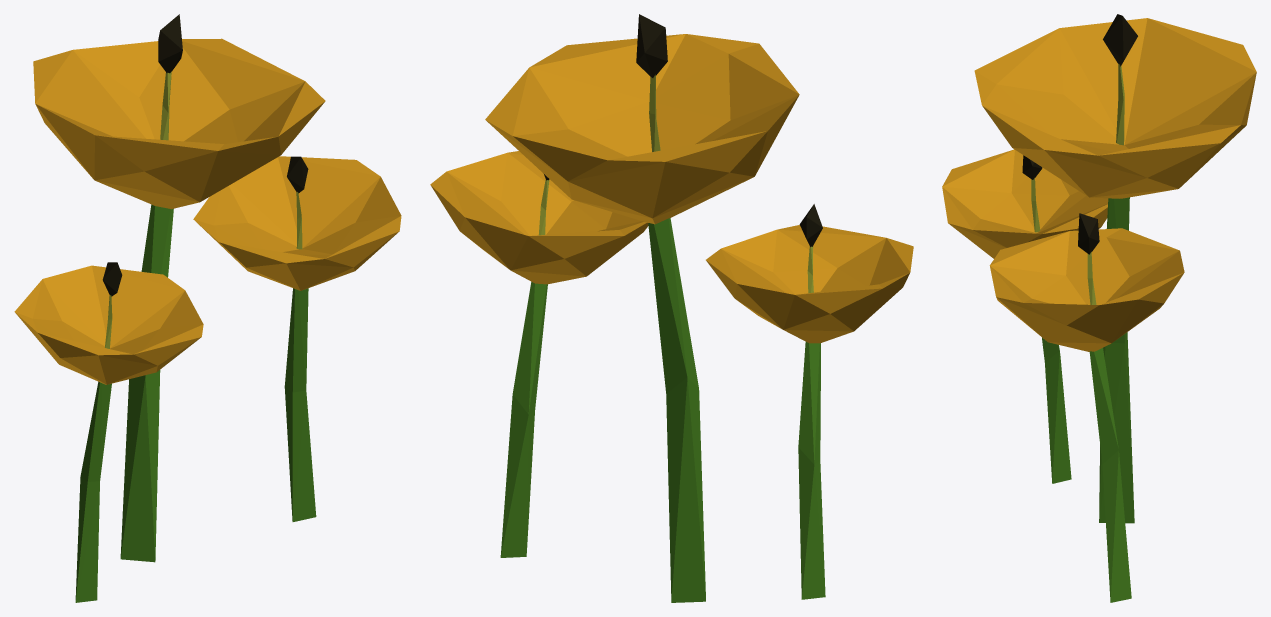
The model's file is flower9.obj.
3 views of the same model, side by side, from view 1: azimuth 30°, elevation 25°; view 2: azimuth 150°, elevation 25°; view 3: azimuth 270°, elevation 25° (orthographic). The views are drawn at different scales.
Visible parts, largest first — view 1: Flower2_1_Cylinder; view 2: Flower2_1_Cylinder; view 3: Flower2_1_Cylinder.
Boxes of the visible parts, left/top/right/bottom form: Flower2_1_Cylinder: left=14, top=14, right=401, bottom=602; Flower2_1_Cylinder: left=430, top=14, right=913, bottom=602; Flower2_1_Cylinder: left=942, top=14, right=1256, bottom=602.
Size of the model in its own units: 0.4381 by 0.5765 by 0.313.
